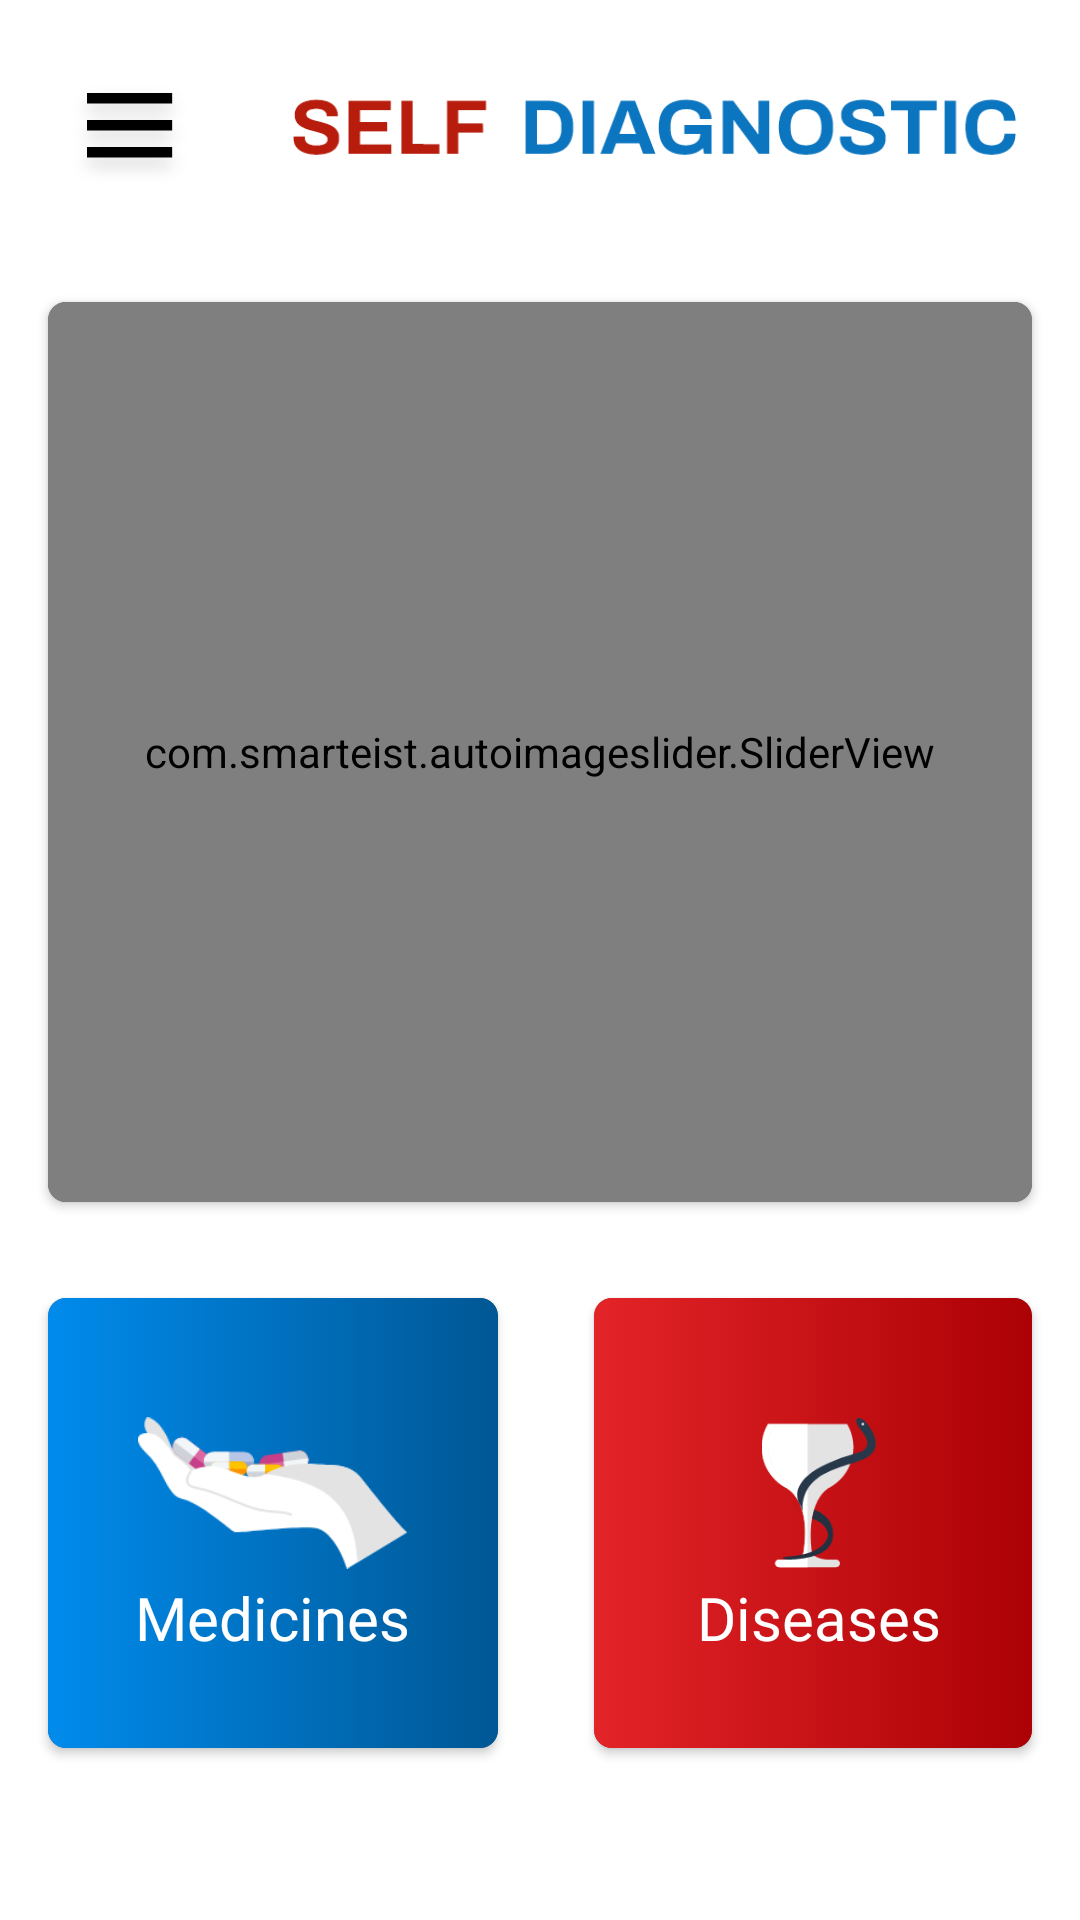

Named icons in this screenshot (1080px×1920px) and their bounding boxes, (x1=x1, y1=y1, x2=x2, y2=y2):
hamburger: (x1=87, y1=93, x2=173, y2=158)
